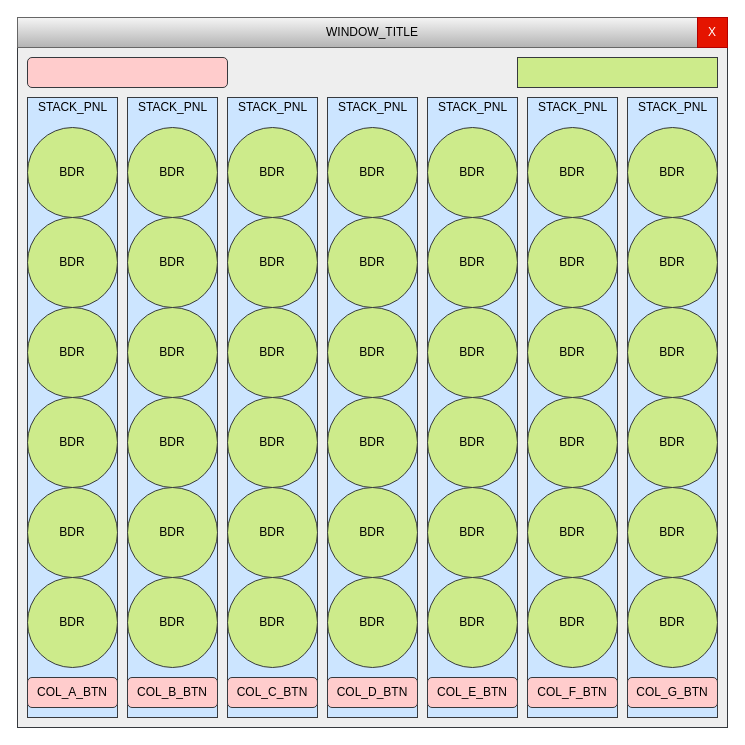
The diagram is 745 pixels wide and 745 high, and some of its shapes have lost their labels. Each missing label, with the centre of its shape:
"CURRENT_PLAYER_TRACKER" goes at (x=617, y=72).
"RESET_BTN" goes at (x=127, y=72).
